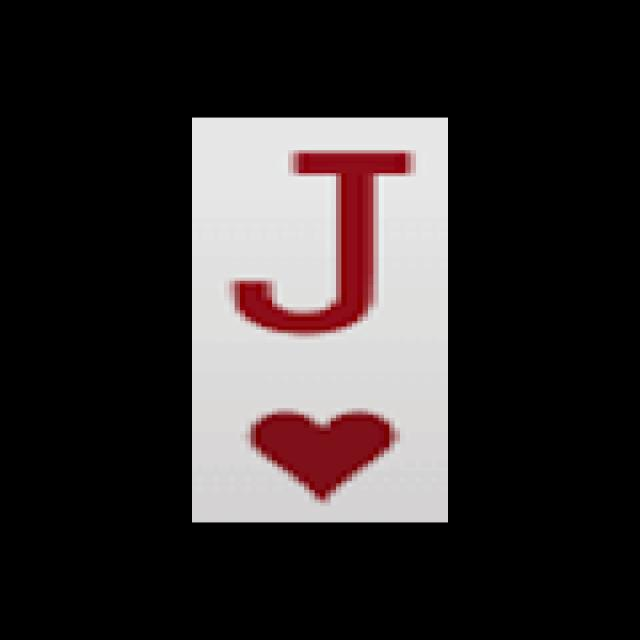JH: (212, 132, 426, 513)
